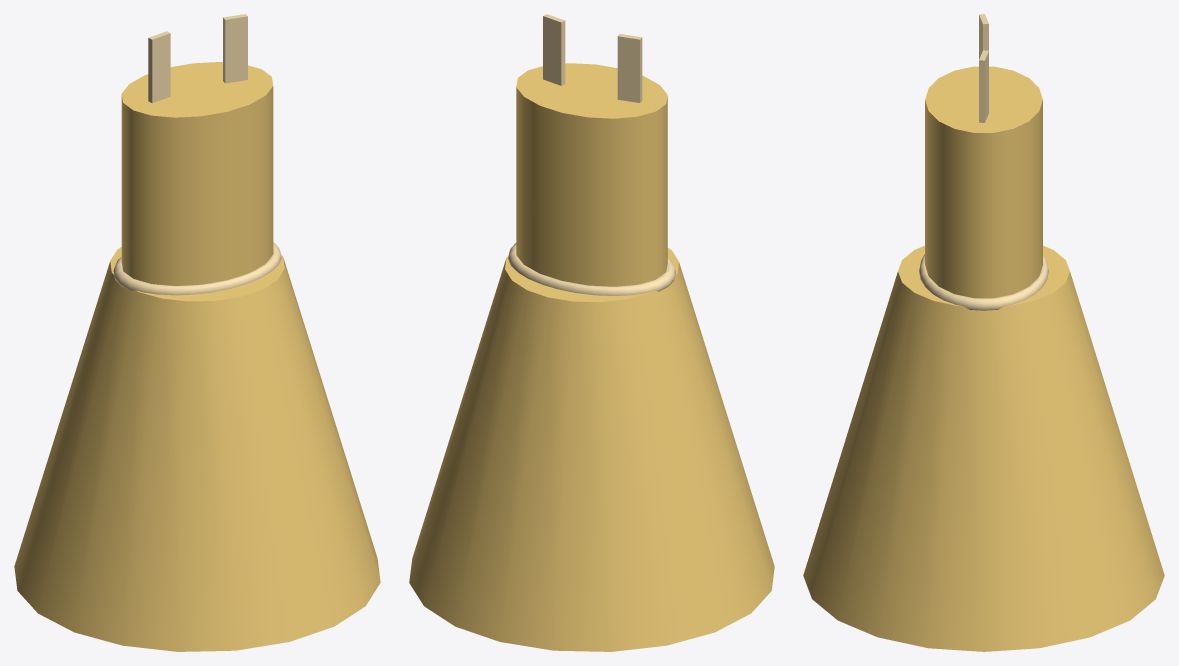
The model's file is VM-DAM-8942.glb.
The picture shows the model from 3 angles, left to right: view 1: azimuth 30°, elevation 25°; view 2: azimuth 150°, elevation 25°; view 3: azimuth 270°, elevation 25°; orthographic projection.
Parts seen in each view (by area): view 1: Vestido Satinado Drapeado; view 2: Vestido Satinado Drapeado; view 3: Vestido Satinado Drapeado.
Boxes of the visible parts, bbox=[...] form: Vestido Satinado Drapeado: bbox=[14, 14, 380, 651]; Vestido Satinado Drapeado: bbox=[409, 14, 774, 651]; Vestido Satinado Drapeado: bbox=[803, 14, 1164, 651].
Size of the model in its own units: 0.7896 by 1.3 by 0.7896.
